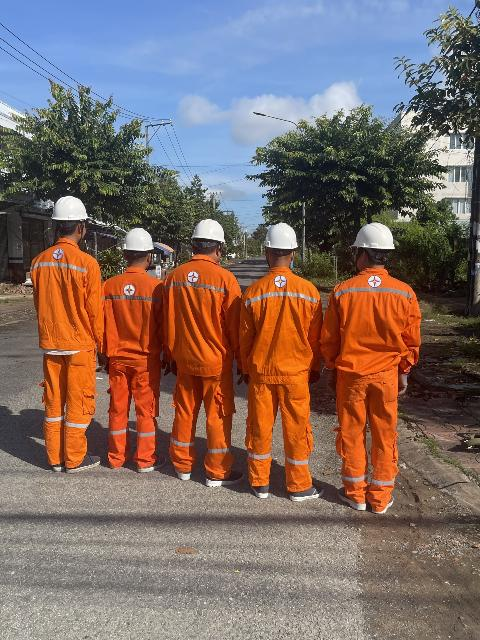helmet: (45, 190, 101, 231), (114, 223, 167, 260), (262, 215, 304, 254), (185, 215, 233, 248), (352, 222, 398, 252)
shoes: (335, 485, 368, 512), (61, 454, 104, 474), (137, 450, 170, 473), (288, 481, 325, 501), (206, 469, 244, 486), (249, 477, 273, 498)
